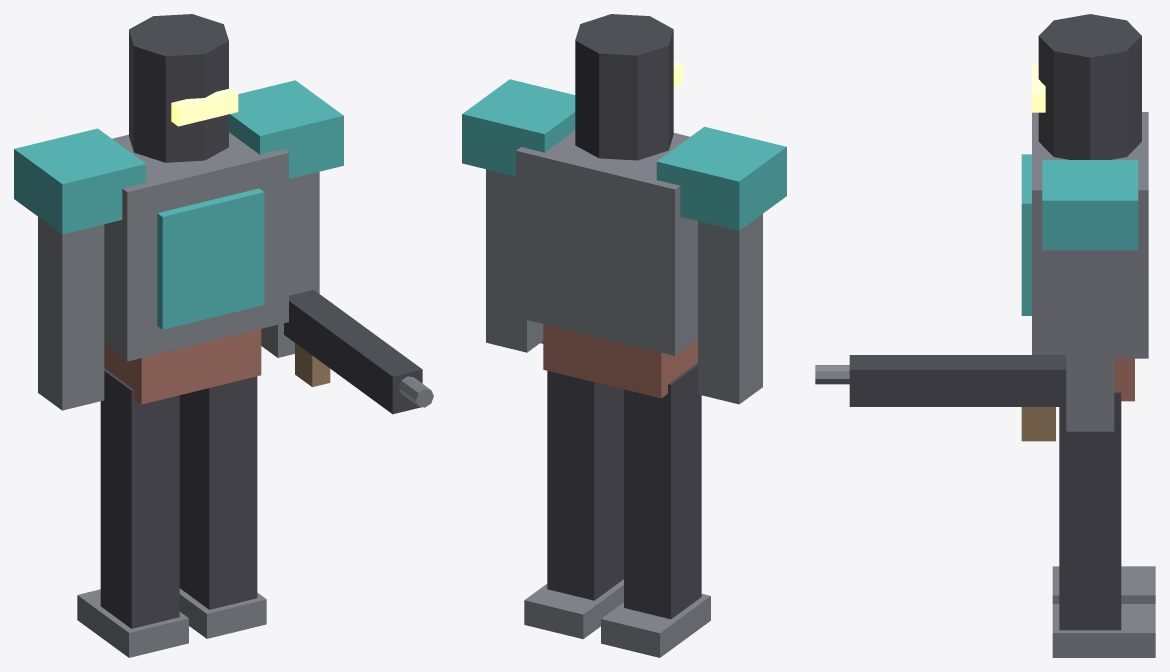
File: trooper_ranged_v1.glb
The picture shows the model from 3 angles, left to right: view 1: azimuth 30°, elevation 25°; view 2: azimuth 150°, elevation 25°; view 3: azimuth 270°, elevation 25°; orthographic projection.
Visible parts, largest first — view 1: trooper; view 2: trooper; view 3: trooper.
Part boxes in pixels (x1,y1,x2,y2): trooper: [14, 14, 433, 657]; trooper: [462, 14, 786, 657]; trooper: [815, 14, 1155, 657].
Size of the model in its own units: 0.94 by 1.89 by 0.99.
